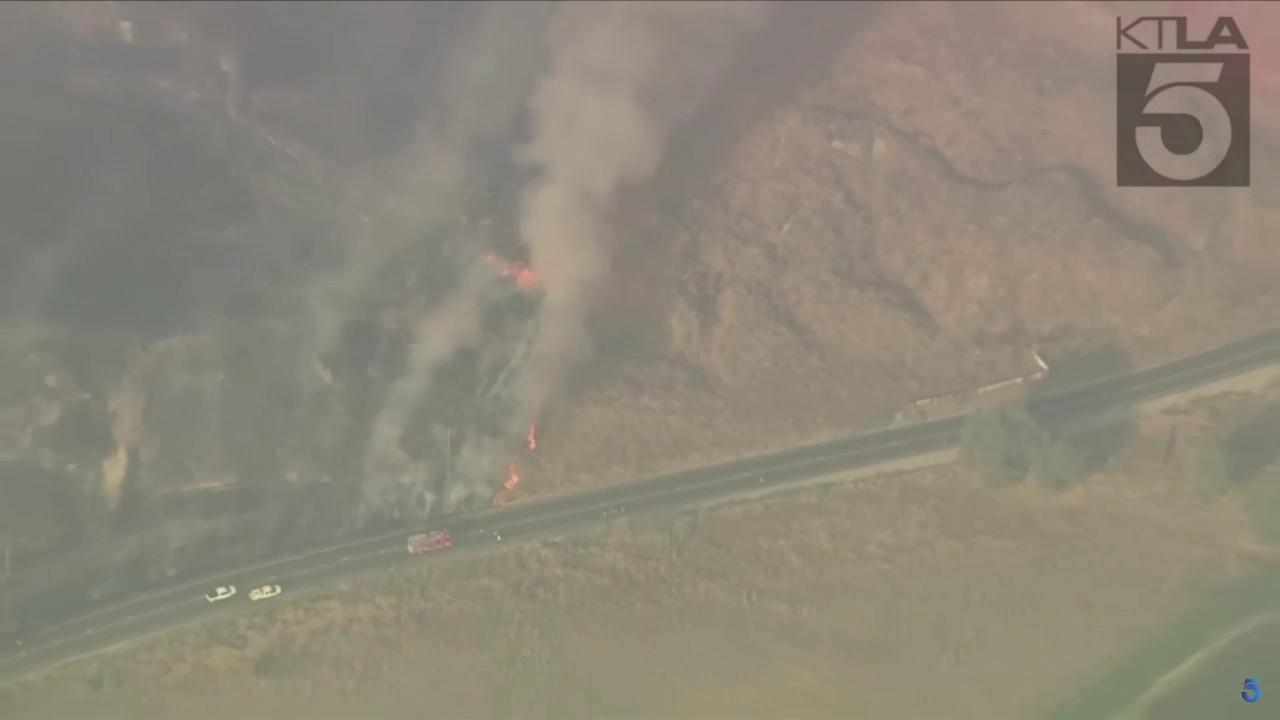fire: (480, 249, 539, 289), (493, 457, 519, 505), (525, 423, 538, 453)
smoke: (281, 0, 741, 532)
